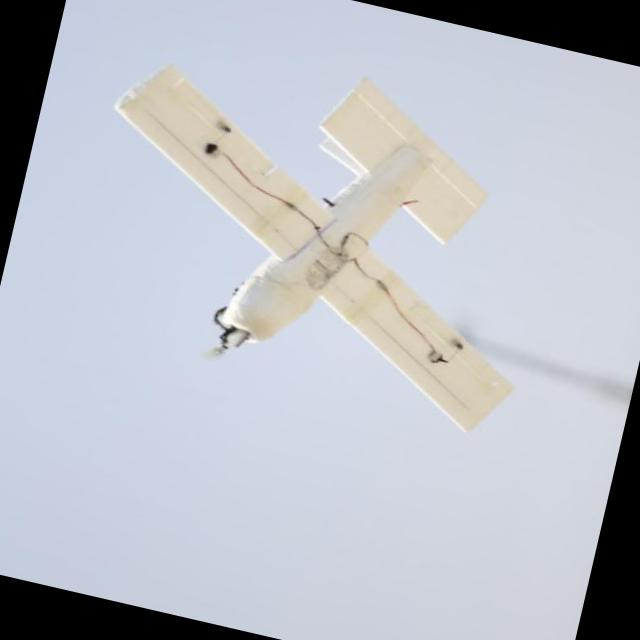UAV: (50, 50, 585, 435)
